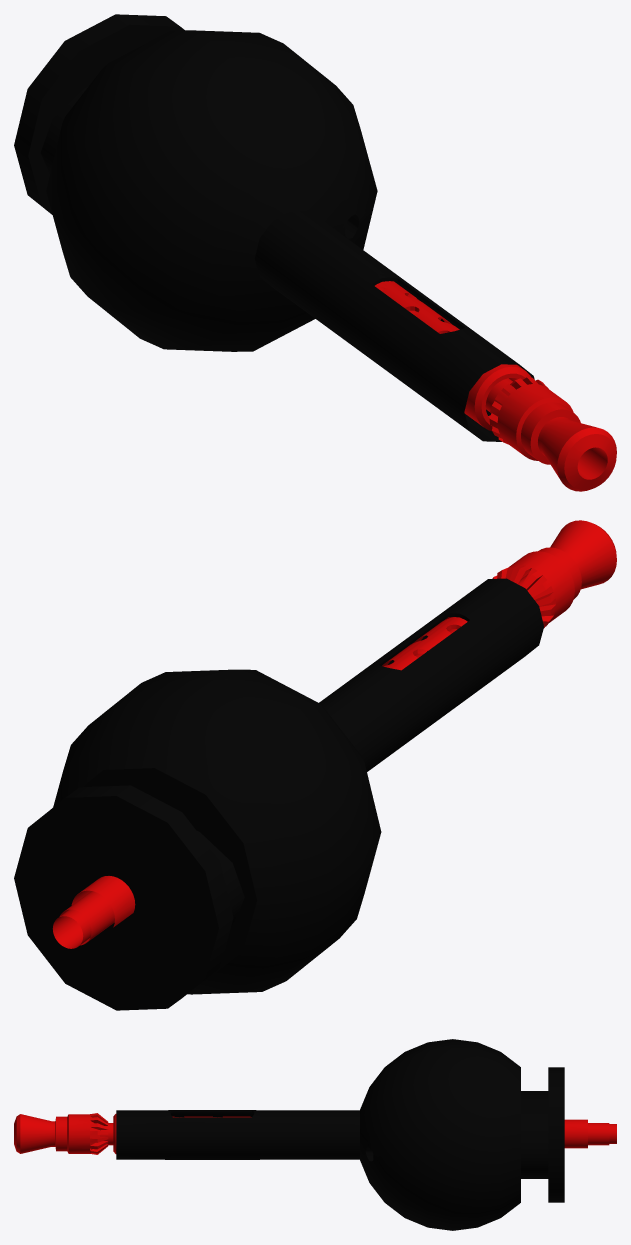
File: BallMGCOEL.fbx
The picture shows the model from 3 angles, top to bottom: view 1: azimuth 30°, elevation 25°; view 2: azimuth 150°, elevation 25°; view 3: azimuth 270°, elevation 25°; orthographic projection. The views are drawn at different scales.
Visible parts, largest first — view 1: polySurface59.001; view 2: polySurface59.001; view 3: polySurface59.001.
Boxes of the visible parts, box(x1,y1,x2,y2) form: polySurface59.001: box(14, 14, 616, 491); polySurface59.001: box(14, 520, 616, 1010); polySurface59.001: box(14, 1039, 616, 1230).
Size of the model in its own units: 1.56 by 0.4986 by 0.4986.
